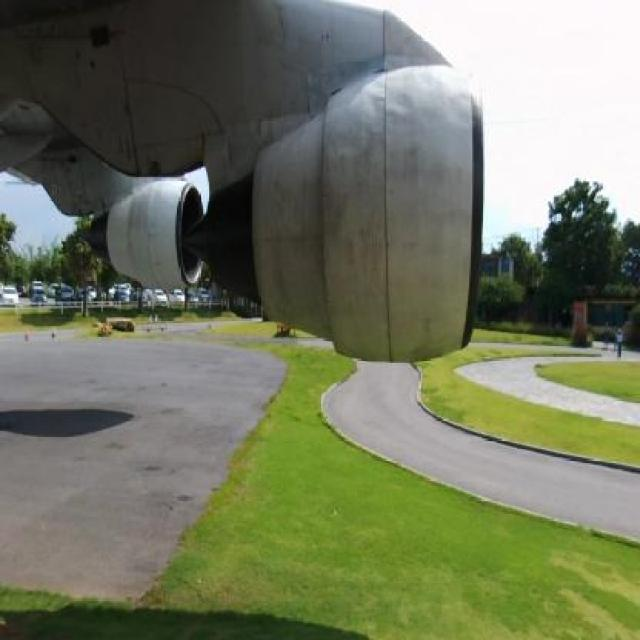Scartch: (319, 95, 386, 332), (266, 154, 319, 298)
